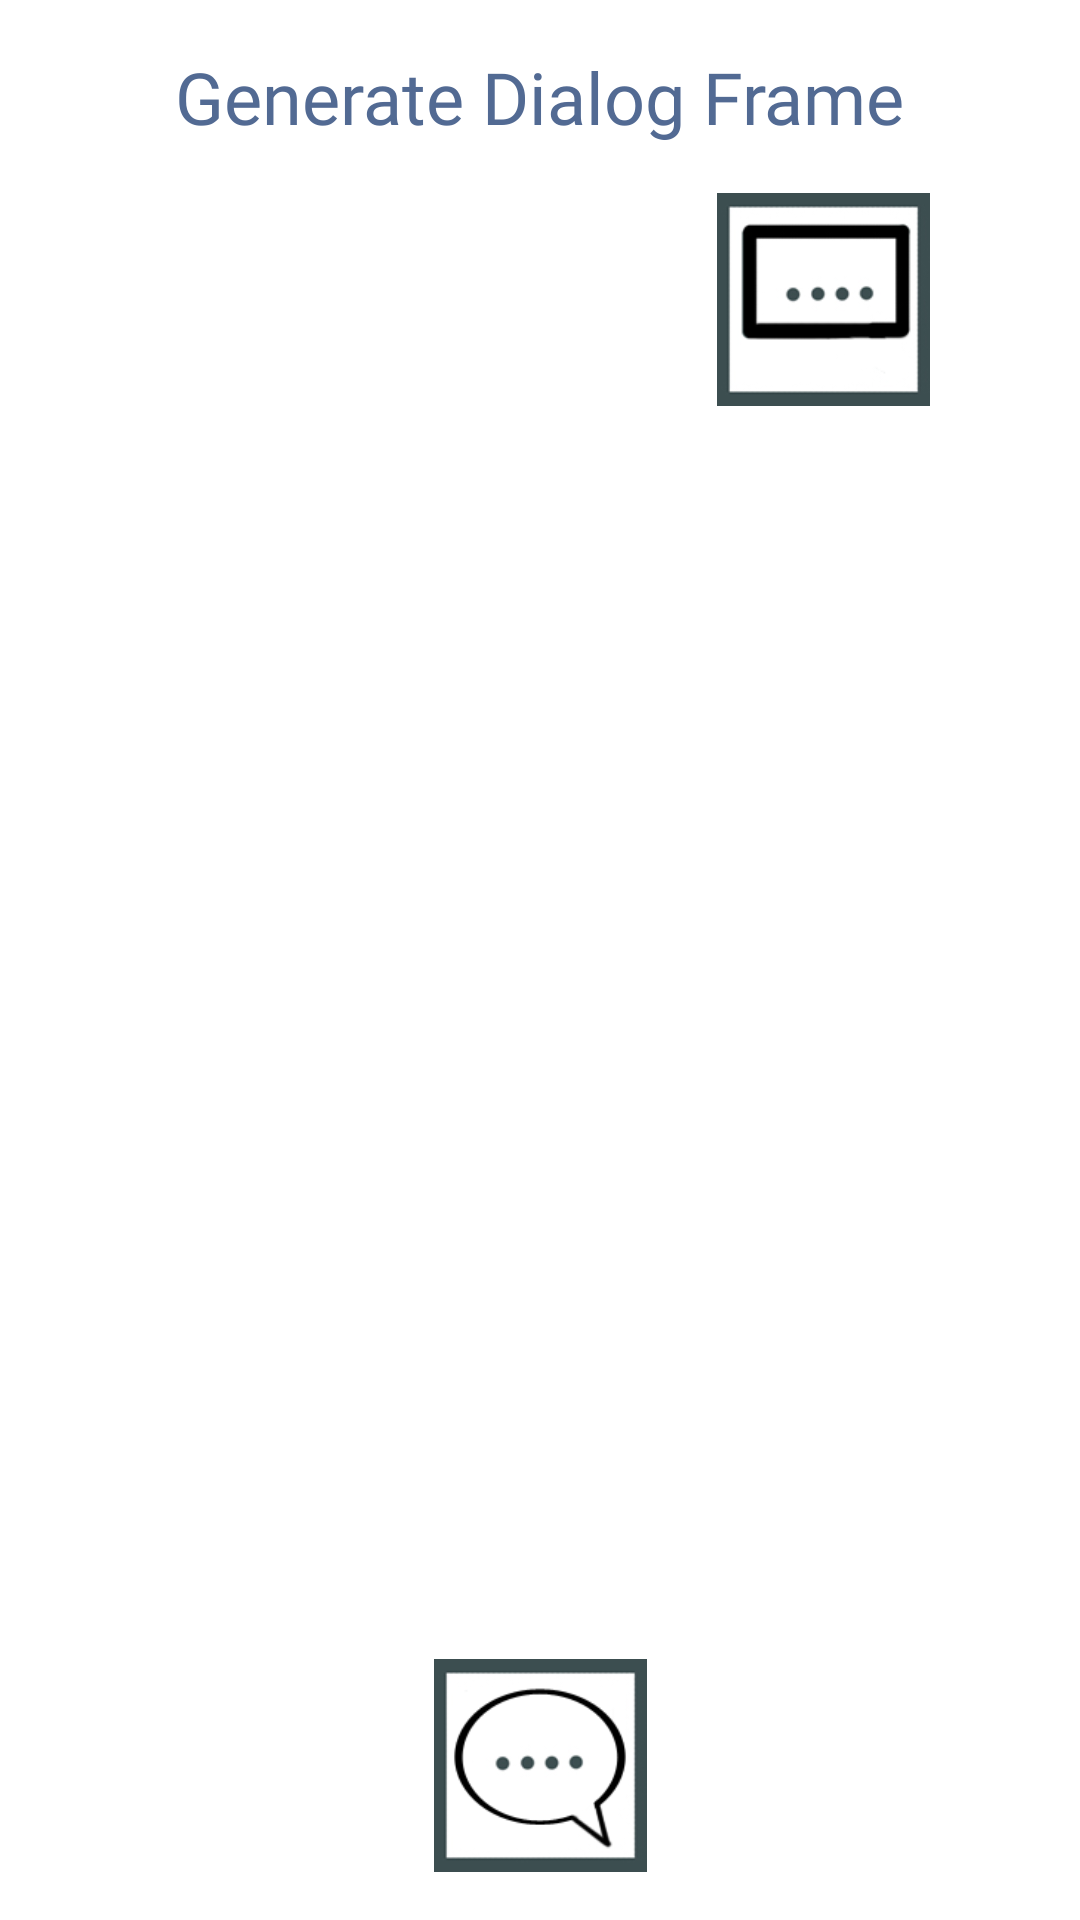

Icon click points for this 1080px×1920px phone screenshot, format (x,y):
generatebubble: (540,1765)
generateframe: (823,299)
